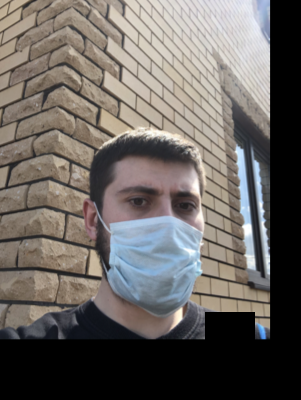with_mask: (99, 174, 203, 319)
